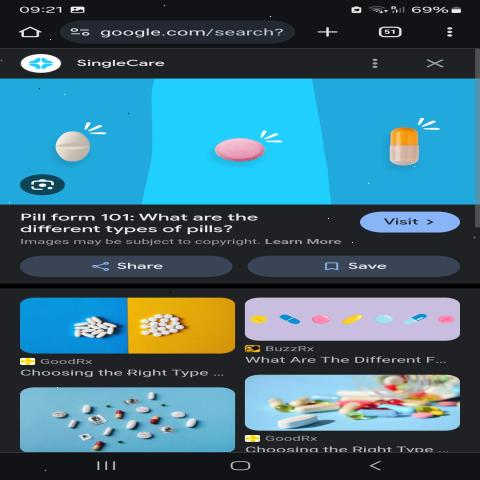Pill: (362, 124, 456, 182), (206, 122, 290, 178), (46, 119, 117, 169), (264, 411, 332, 432), (271, 304, 304, 330), (246, 308, 276, 330), (340, 310, 369, 332), (406, 311, 432, 331), (308, 310, 333, 328), (372, 312, 396, 330), (130, 431, 159, 445), (121, 418, 144, 434), (184, 415, 208, 430), (81, 402, 104, 417), (46, 409, 72, 422), (65, 419, 89, 433), (100, 425, 121, 439), (438, 310, 454, 328), (144, 390, 164, 402)
